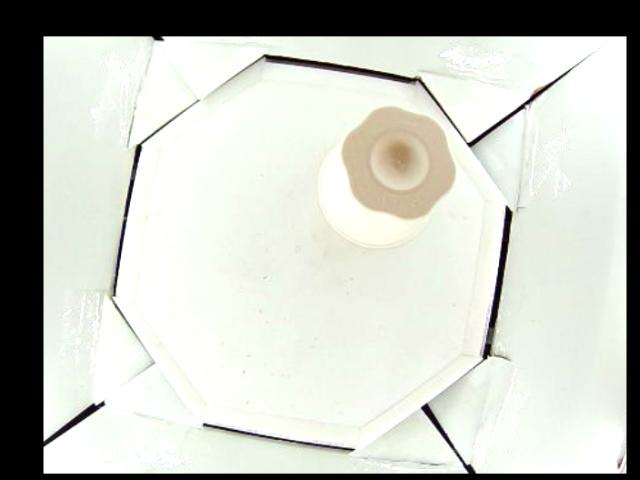Cup: (316, 106, 457, 246)
